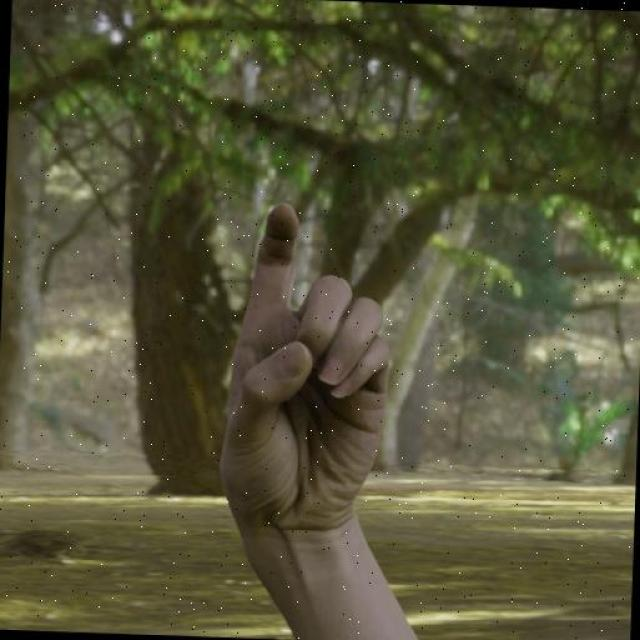X: (214, 187, 400, 568)
